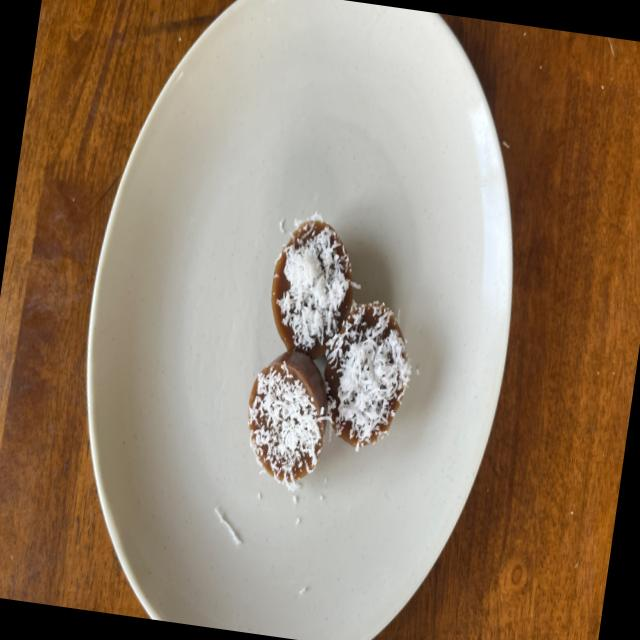Kuih lompang: (324, 301, 411, 451), (271, 218, 355, 360), (248, 350, 327, 489)
